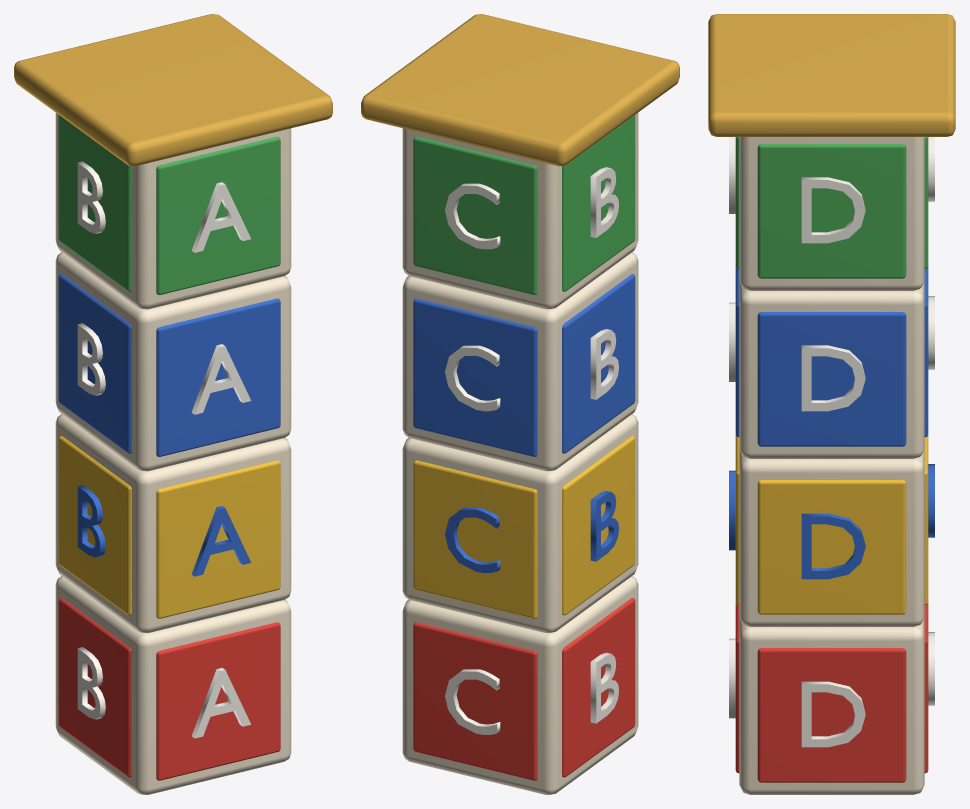
File: toy_pier.glb
3 renders of one model, left to right at view 1: azimuth 30°, elevation 25°; view 2: azimuth 150°, elevation 25°; view 3: azimuth 270°, elevation 25°, orthographic. The views are drawn at different scales.
Visible parts, largest first — view 1: toy_pier; view 2: toy_pier; view 3: toy_pier.
Part boxes in pixels (x1,y1,x2,y2): toy_pier: (14, 14, 332, 794); toy_pier: (361, 14, 679, 794); toy_pier: (708, 14, 955, 794).
Bounding box in the file's own units: 1.8 × 5.6 × 1.8.
